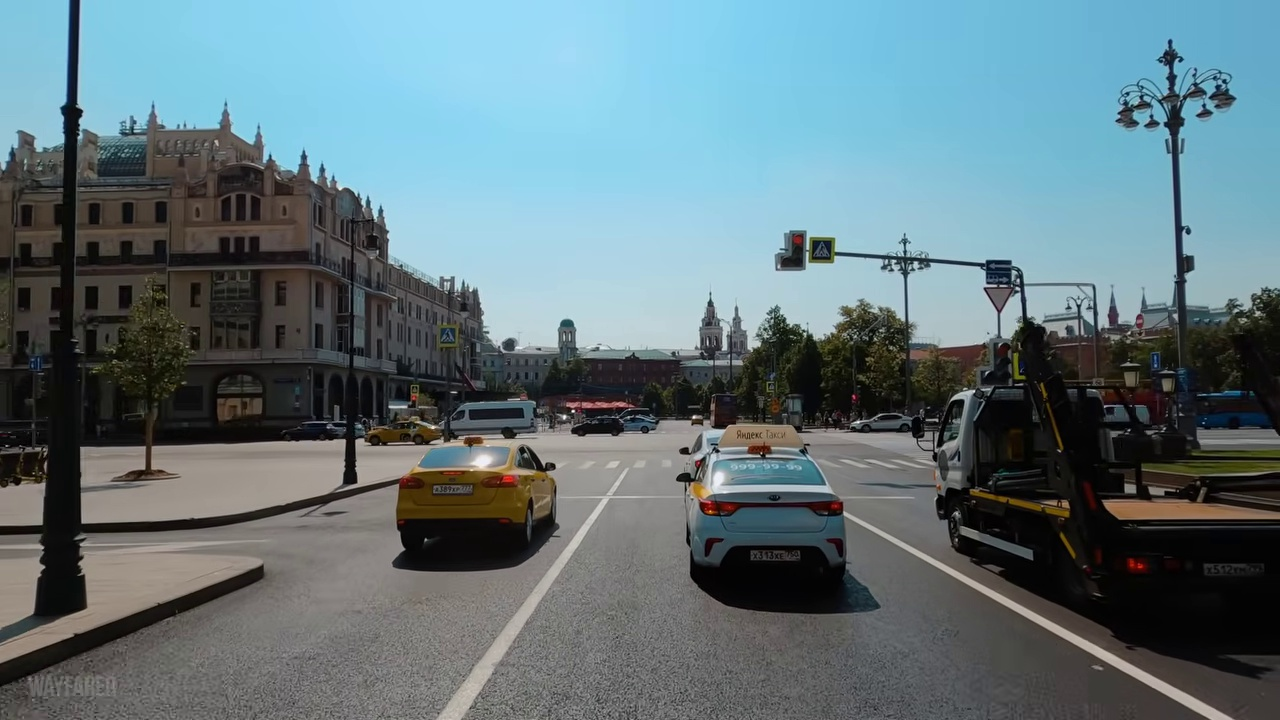apagada: (1141, 75, 1237, 128), (1187, 77, 1237, 125)
